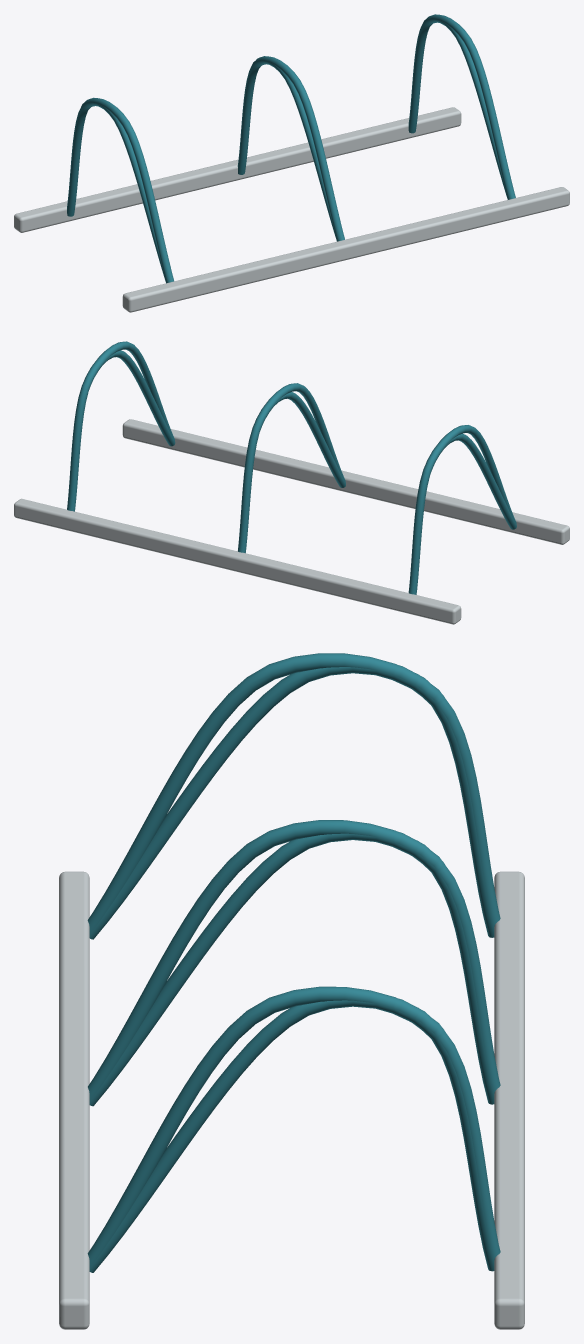
Rendered from bicycle-shop-and-repair-cafe-bicycle-display-rack-8d3f5a4e__32383.glb.
The picture shows the model from 3 angles, top to bottom: view 1: azimuth 30°, elevation 25°; view 2: azimuth 150°, elevation 25°; view 3: azimuth 270°, elevation 25°; orthographic projection. The views are drawn at different scales.
Visible parts, largest first — view 1: bicycle-display-rack; view 2: bicycle-display-rack; view 3: bicycle-display-rack.
Boxes of the visible parts, box(x1,y1,x2,y2) form: bicycle-display-rack: box(14, 14, 569, 312); bicycle-display-rack: box(14, 341, 569, 624); bicycle-display-rack: box(59, 653, 524, 1329).
Size of the model in its own units: 1.5 by 0.4792 by 0.6851.
